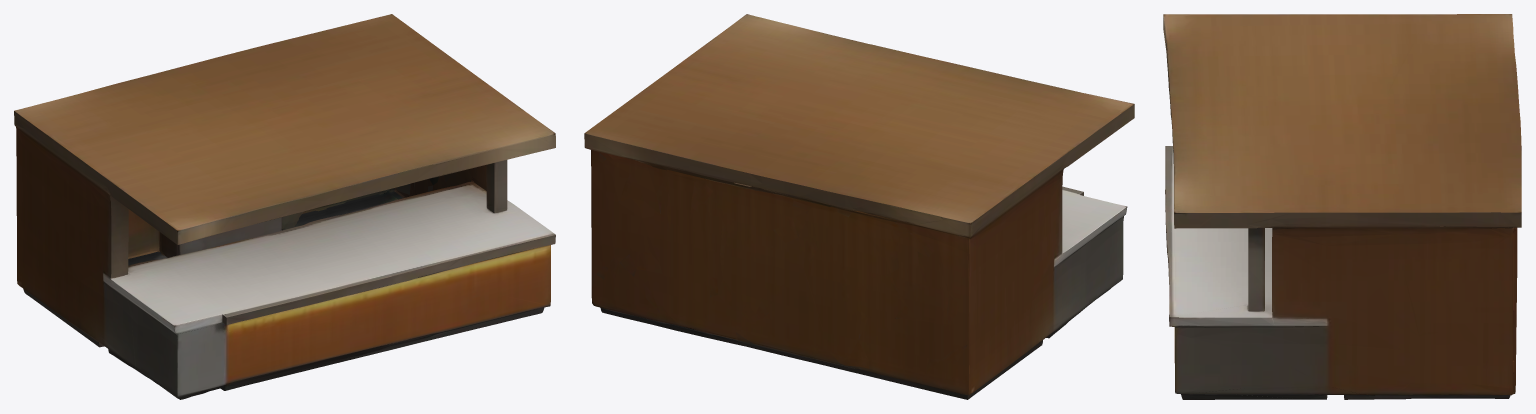
The picture shows the model from 3 angles, left to right: view 1: azimuth 30°, elevation 25°; view 2: azimuth 150°, elevation 25°; view 3: azimuth 270°, elevation 25°; orthographic projection. The views are drawn at different scales.
Visible parts, largest first — view 1: geometry_0; view 2: geometry_0; view 3: geometry_0.
Part boxes in pixels (box(x1,y1,x2,y2)): geometry_0: box(14, 14, 555, 399); geometry_0: box(584, 14, 1134, 399); geometry_0: box(1163, 14, 1521, 399).
Bounding box in the file's own units: 0.9965 × 0.4522 × 0.7582.
1 material, 1 textured.
